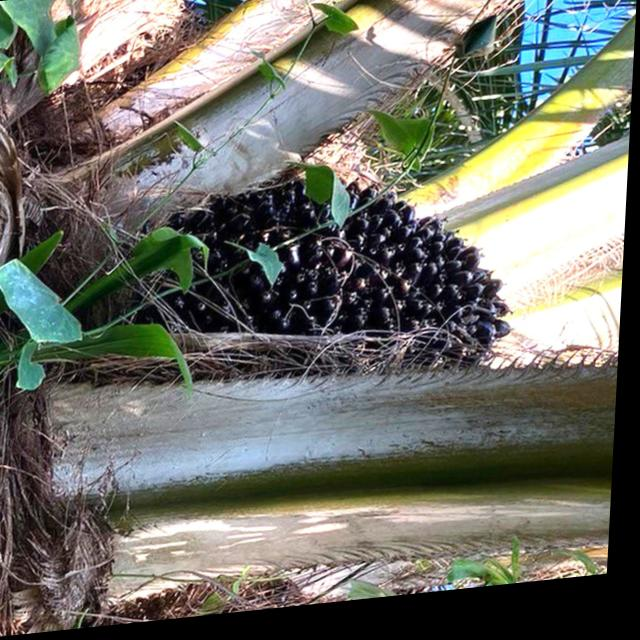almost: (136, 156, 530, 413)
